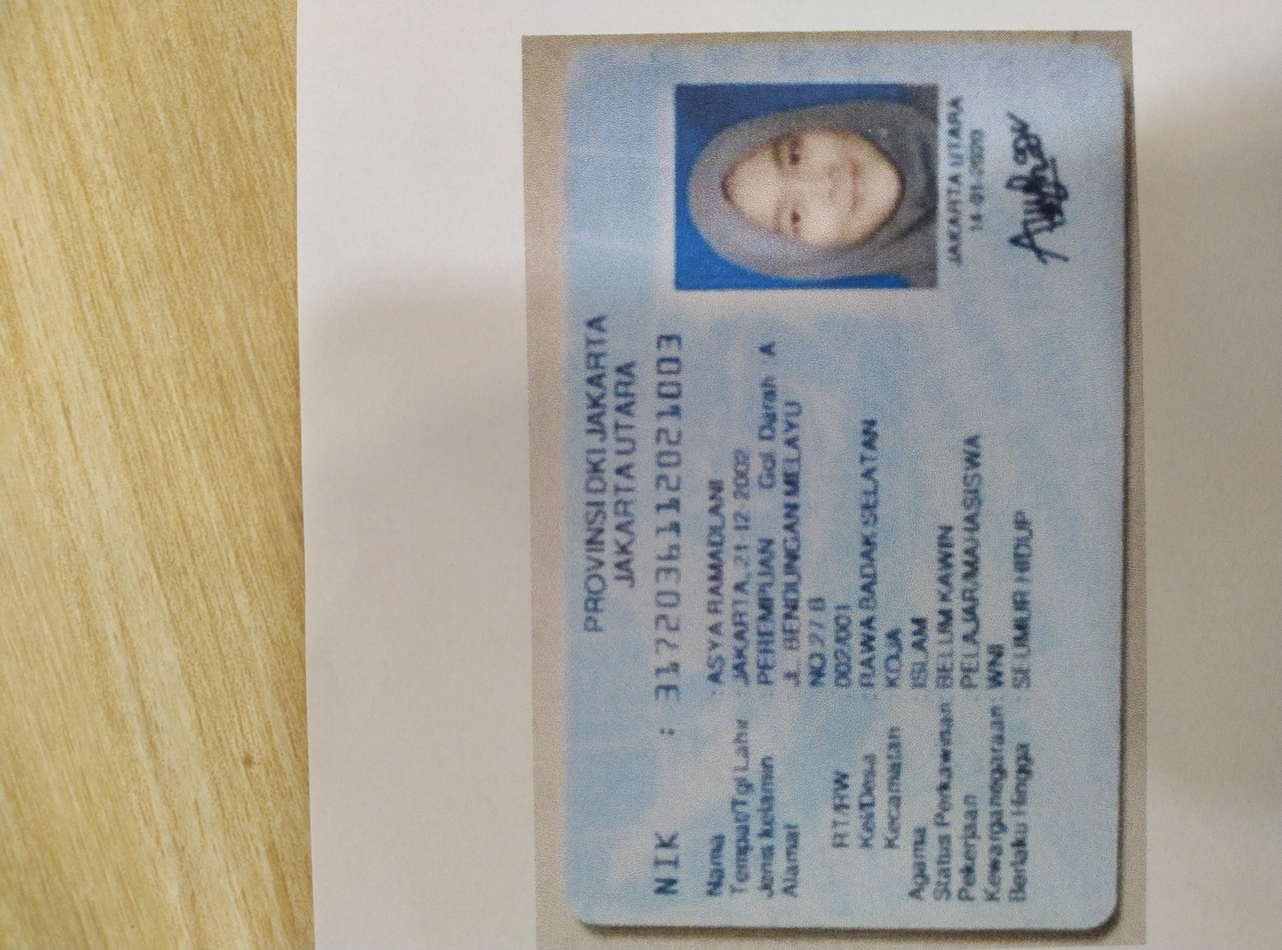ID-card: (34, 419, 1214, 832)
